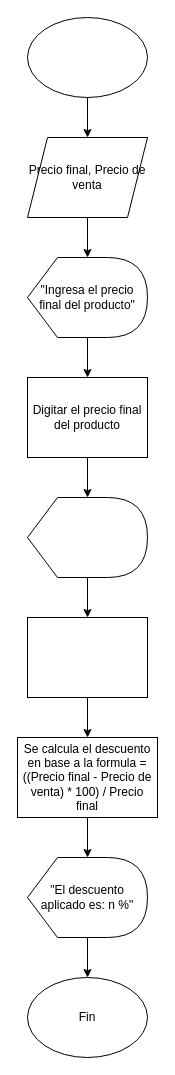
The diagram is 175 pixels wide and 1075 high, and some of its shapes have lost their labels. Here are the shapes that lost their labels. From the top down, the box of each, then its label:
(26, 16, 148, 98): Inicio
(26, 496, 148, 578): "Ingresa el precio de venta del producto"
(26, 616, 148, 698): Digitar el precio de venta del producto
